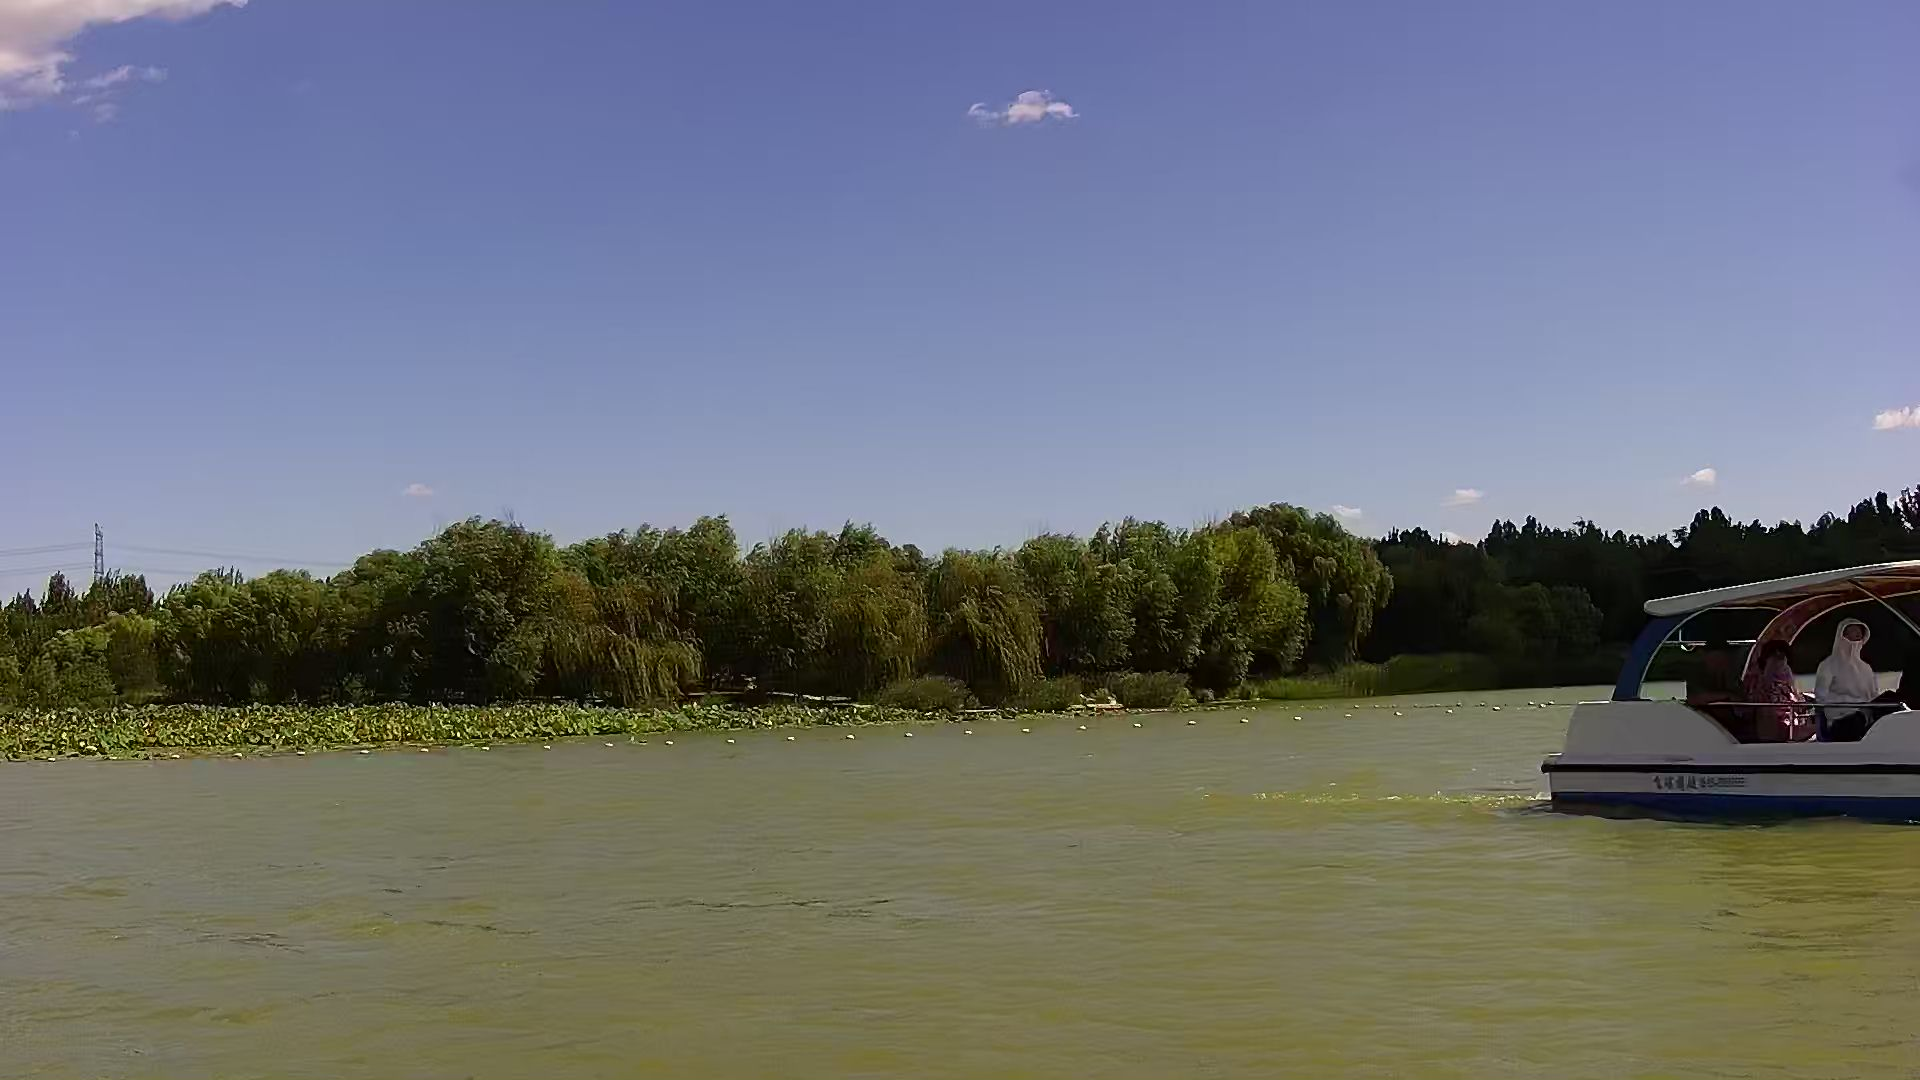boat: (1538, 537, 1920, 829)
